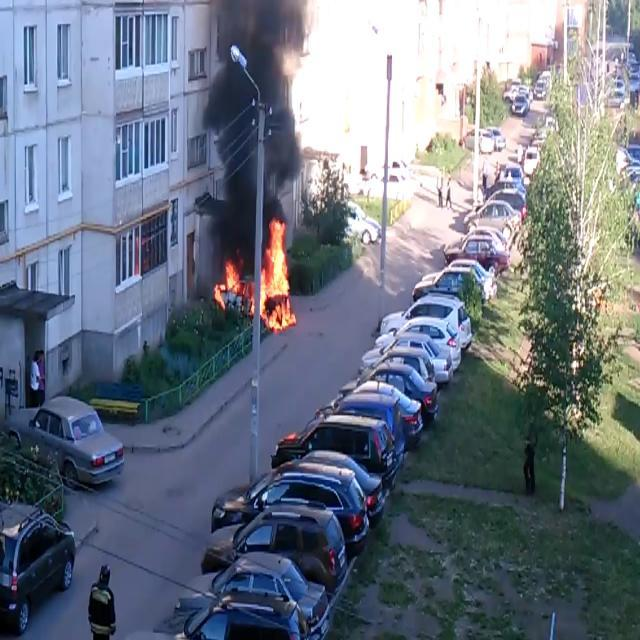Fire: (258, 214, 292, 328), (214, 254, 242, 314)
Smoke: (190, 0, 322, 269)
